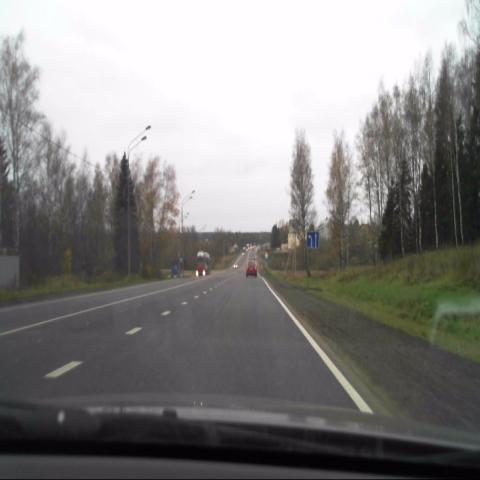5_15_2_2: (306, 231, 320, 249)
